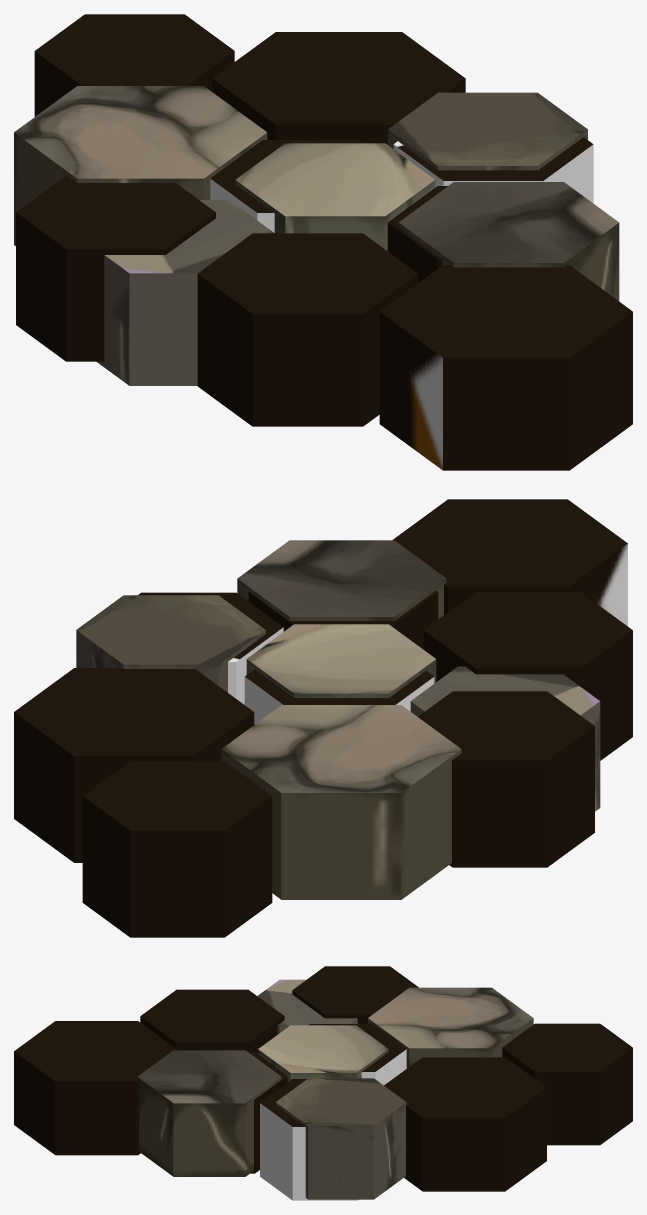
The model's file is Missing_materials.gltf.
The picture shows the model from 3 angles, top to bottom: view 1: azimuth 30°, elevation 25°; view 2: azimuth 150°, elevation 25°; view 3: azimuth 270°, elevation 25°; orthographic projection. The views are drawn at different scales.
Parts seen in each view (by area): view 1: Cylinder.119, Cylinder.121; view 2: Cylinder.119, Cylinder.121; view 3: Cylinder.119, Cylinder.121.
Boxes of the visible parts, <box> form: Cylinder.119: <box>16,14,632,470</box>; Cylinder.121: <box>14,86,619,385</box>; Cylinder.119: <box>14,499,632,937</box>; Cylinder.121: <box>76,540,600,899</box>; Cylinder.119: <box>14,966,632,1200</box>; Cylinder.121: <box>137,979,533,1199</box>.
Bounding box in the file's own units: 1.4 × 0.3244 × 2.26.
2 materials, 2 textured.
